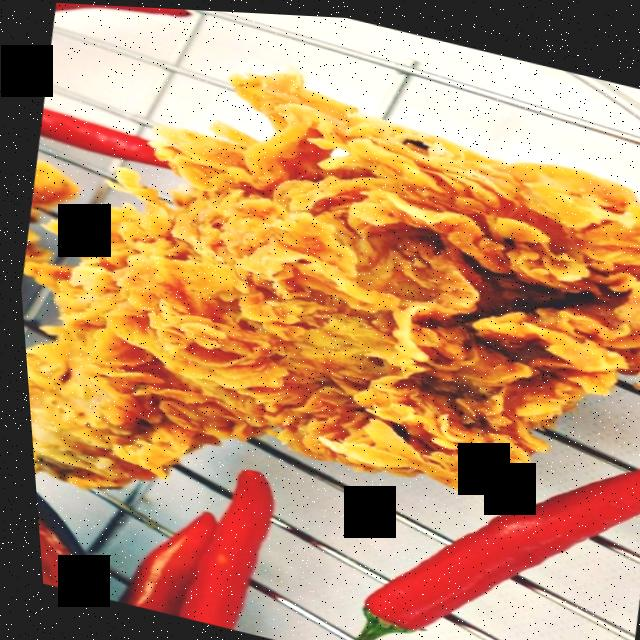Frango: (2, 34, 640, 614)
